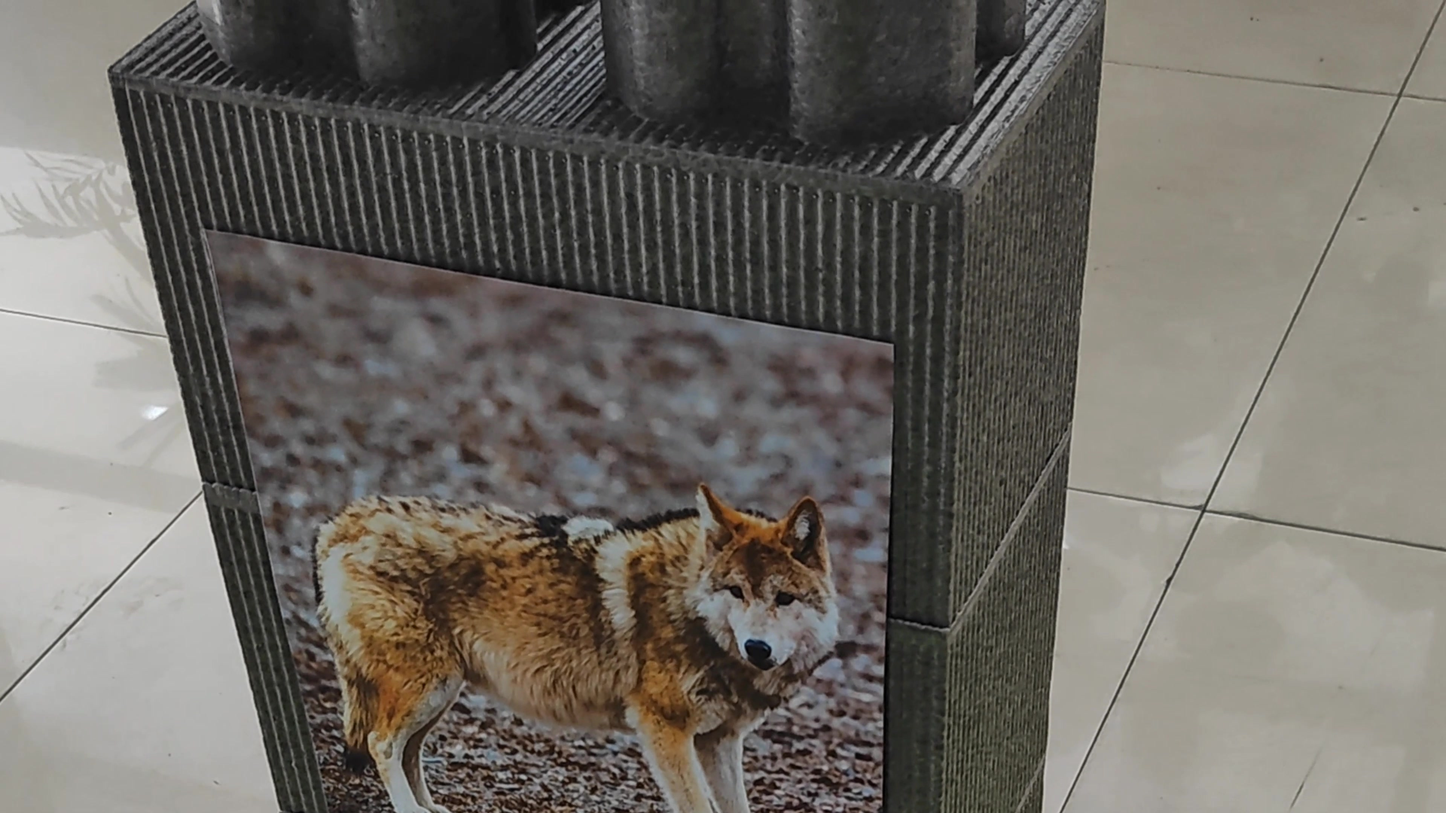wolf: (283, 378, 862, 809)
